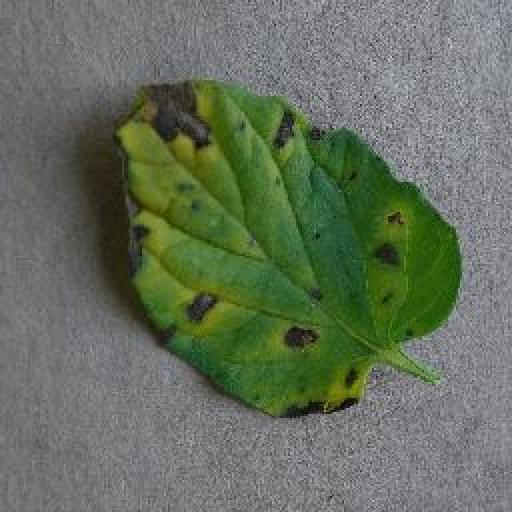Early Blight: (116, 79, 463, 417)
